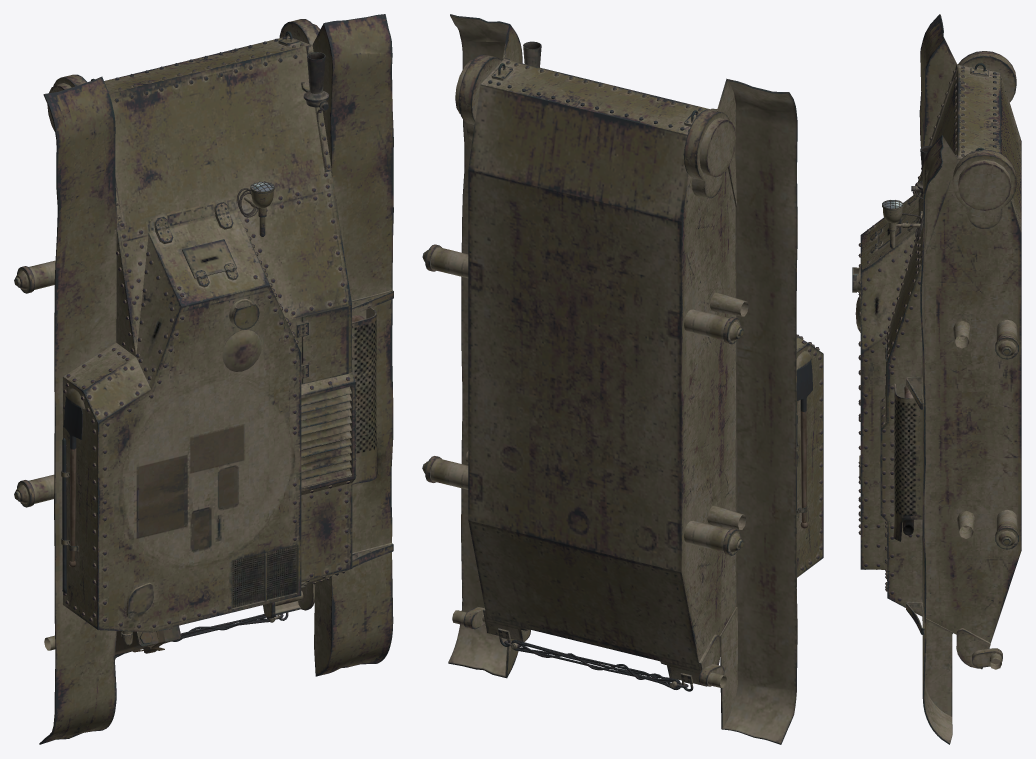
The model's file is Hull.glb.
3 renders of one model, left to right at view 1: azimuth 30°, elevation 25°; view 2: azimuth 150°, elevation 25°; view 3: azimuth 270°, elevation 25°, orthographic. The views are drawn at different scales.
Parts seen in each view (by area): view 1: set_0_group_0; view 2: set_0_group_0; view 3: set_0_group_0.
Boxes of the visible parts, bbox=[...] form: set_0_group_0: bbox=[14, 14, 393, 744]; set_0_group_0: bbox=[422, 14, 823, 744]; set_0_group_0: bbox=[852, 14, 1021, 744].
Size of the model in its own units: 2.1 by 3.85 by 1.01.
1 material, 1 textured.
